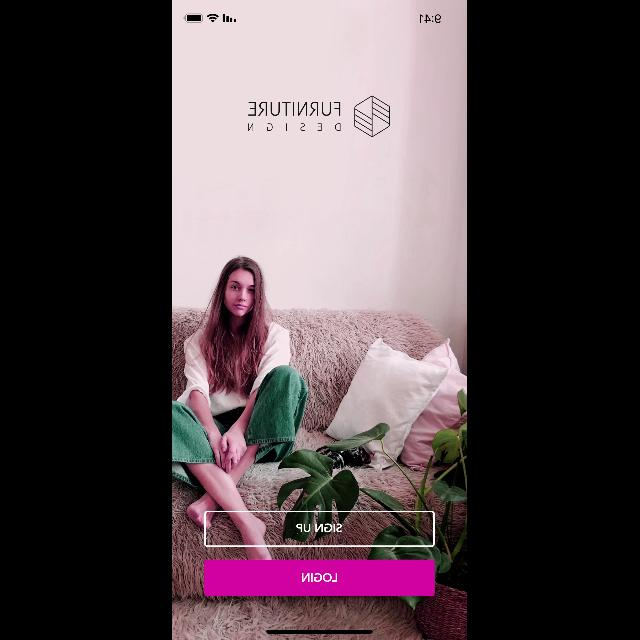backgroundimage: (172, 1, 468, 640)
image: (249, 95, 391, 137)
textbutton: (204, 511, 436, 547), (205, 560, 435, 596)
uppertaskbar: (184, 14, 442, 24)
